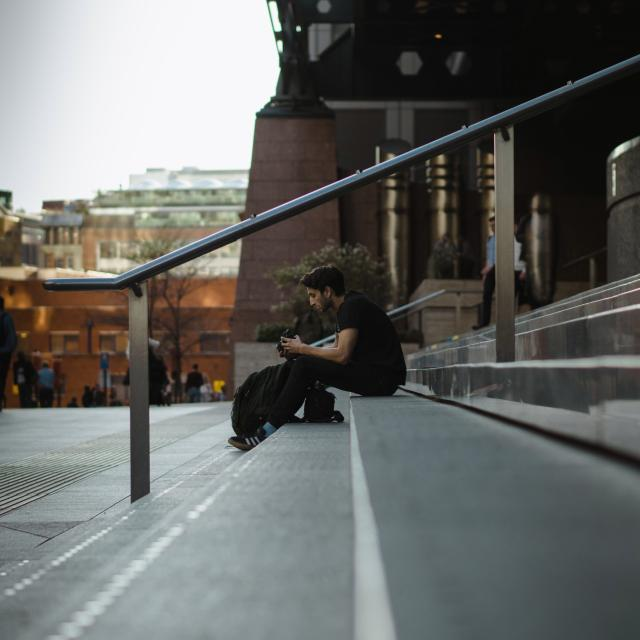adult: (226, 263, 404, 451)
